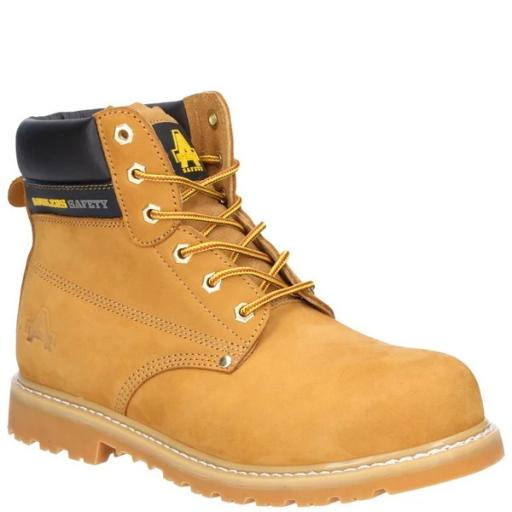safety_boots: (0, 230, 512, 506)
